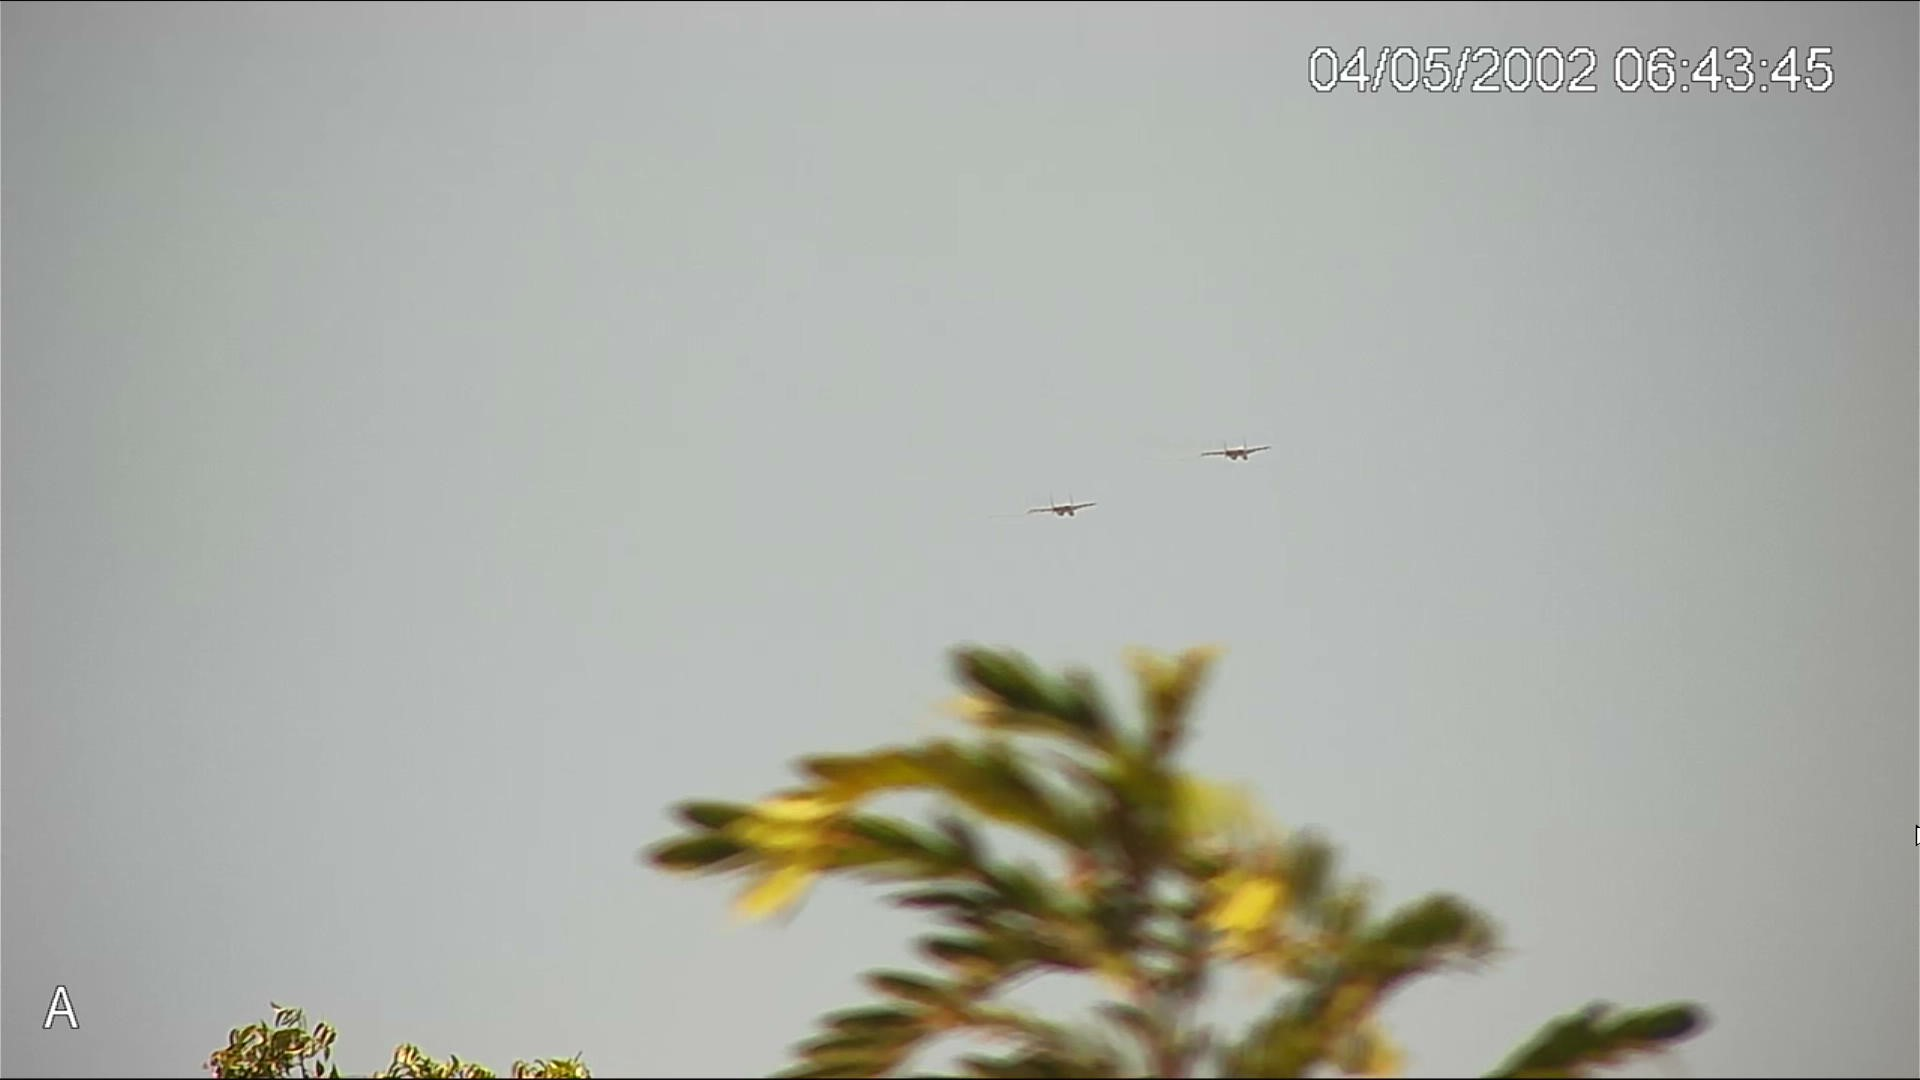SU_30: (1207, 434, 1270, 465), (1022, 498, 1101, 517)
